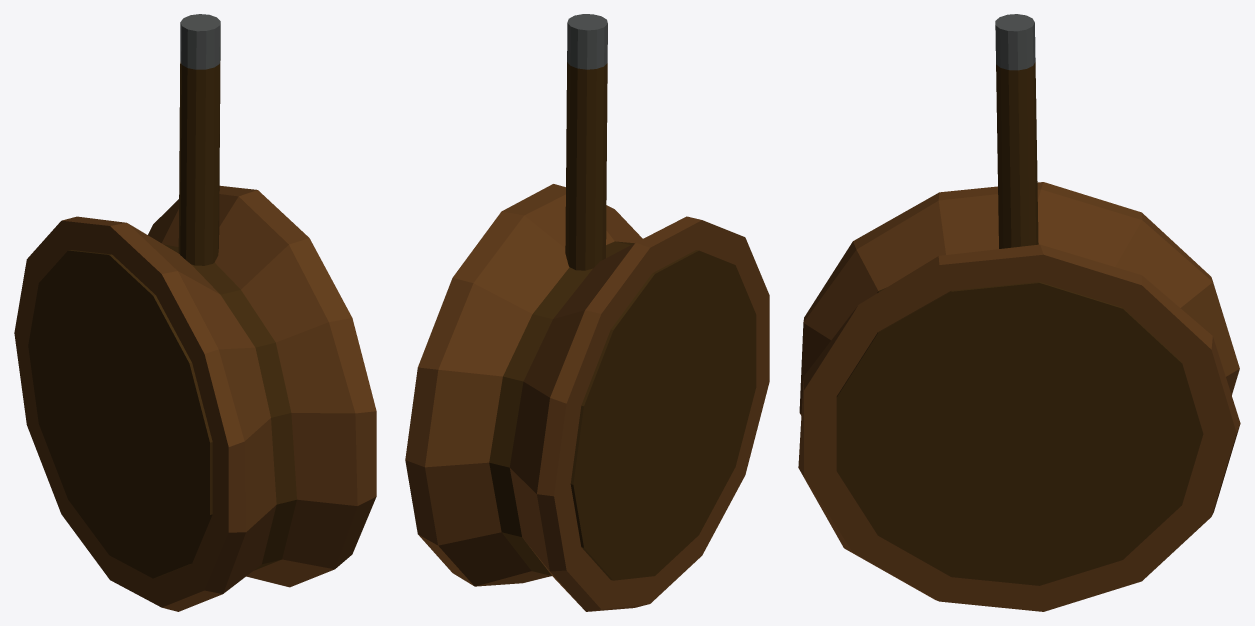
Rendered from SM_Lever.fbx.
3 renders of one model, left to right at view 1: azimuth 30°, elevation 25°; view 2: azimuth 150°, elevation 25°; view 3: azimuth 270°, elevation 25°, orthographic.
Parts seen in each view (by area): view 1: SM_BaseAlavanca, SM_Alavanca; view 2: SM_BaseAlavanca, SM_Alavanca; view 3: SM_BaseAlavanca, SM_Alavanca.
Boxes of the visible parts, box(x1,y1,x2,y2) form: SM_BaseAlavanca: box(14, 185, 376, 611); SM_Alavanca: box(178, 14, 220, 265); SM_BaseAlavanca: box(405, 184, 769, 611); SM_Alavanca: box(565, 14, 607, 270); SM_BaseAlavanca: box(798, 182, 1240, 611); SM_Alavanca: box(995, 14, 1038, 248).
Bounding box in the file's own units: 21.31 × 74.54 × 52.96.
